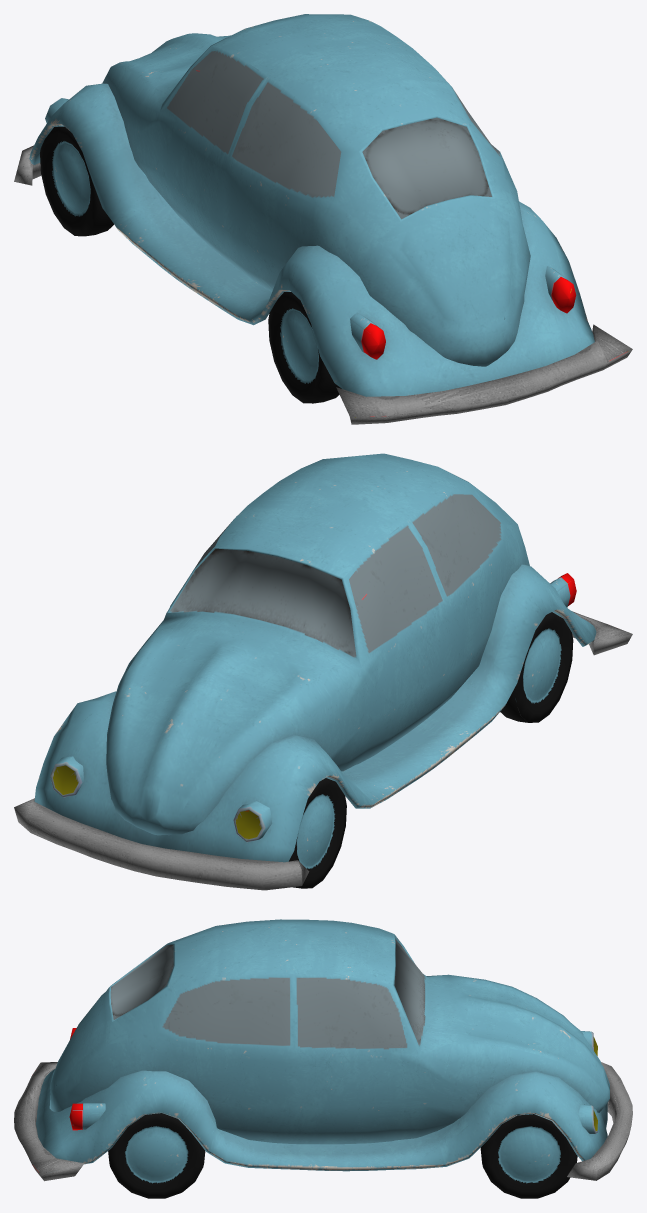
The picture shows the model from 3 angles, top to bottom: view 1: azimuth 30°, elevation 25°; view 2: azimuth 150°, elevation 25°; view 3: azimuth 270°, elevation 25°; orthographic projection. The views are drawn at different scales.
Parts seen in each view (by area): view 1: Beatle_recontour.006; view 2: Beatle_recontour.006; view 3: Beatle_recontour.006.
Part boxes in pixels (x1,y1,x2,y2): Beatle_recontour.006: (14,14,632,424); Beatle_recontour.006: (14,453,632,890); Beatle_recontour.006: (14,919,632,1198).
Bounding box in the file's own units: 211 × 186 × 488.
Materials: 1 (1 with a texture image).
